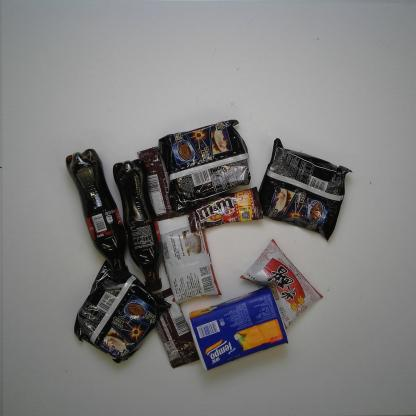Chocolate: (154, 288, 201, 370), (186, 186, 264, 234), (136, 146, 184, 222)
Drink: (64, 148, 131, 285), (112, 158, 164, 293)
Instant Noodles: (73, 259, 173, 365), (258, 136, 354, 244), (158, 119, 252, 216)
Seasoner: (238, 237, 324, 330), (159, 224, 222, 306)
Tissue: (187, 284, 289, 372)
